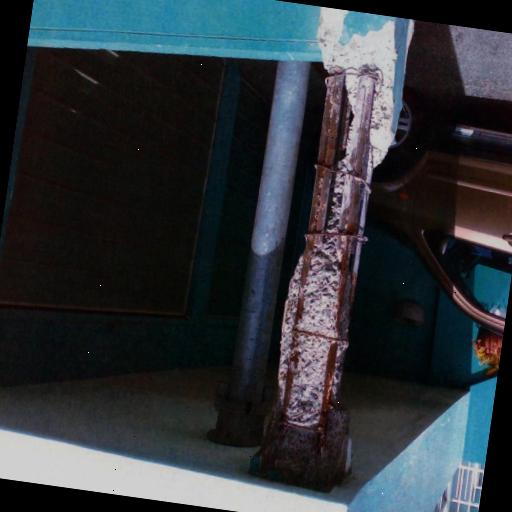spalling: (256, 64, 397, 491)
